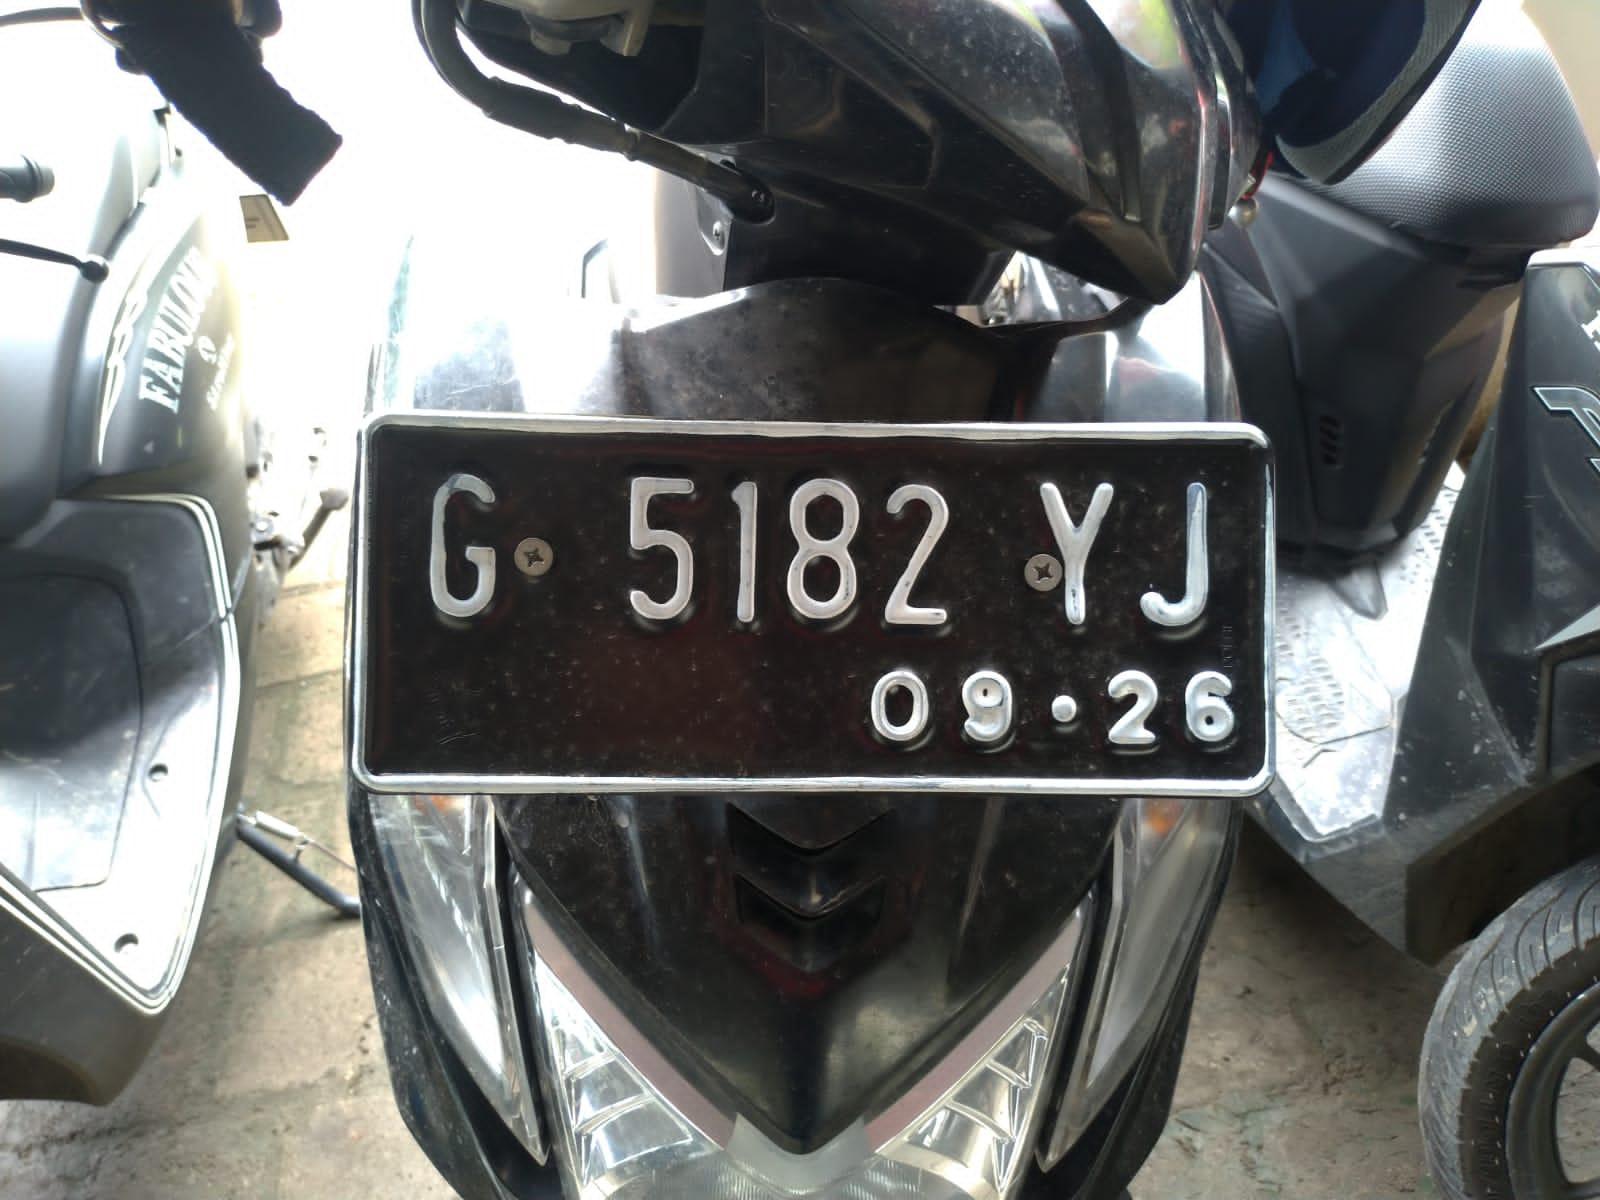plat: (353, 412, 1275, 797)
